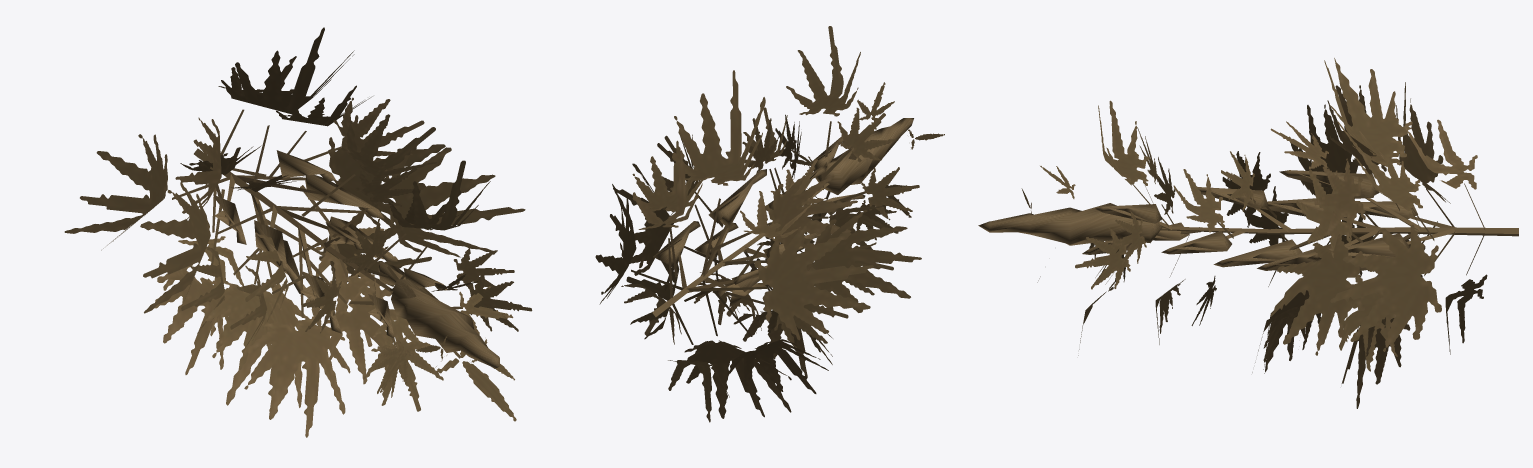
Rendered from p_landrace_ripe_c3_cards.obj.
The picture shows the model from 3 angles, left to right: view 1: azimuth 30°, elevation 25°; view 2: azimuth 150°, elevation 25°; view 3: azimuth 270°, elevation 25°; orthographic projection. The views are drawn at different scales.
Size of the model in its own units: 1.8 by 1.78 by 2.13.
1 material, 1 textured.
